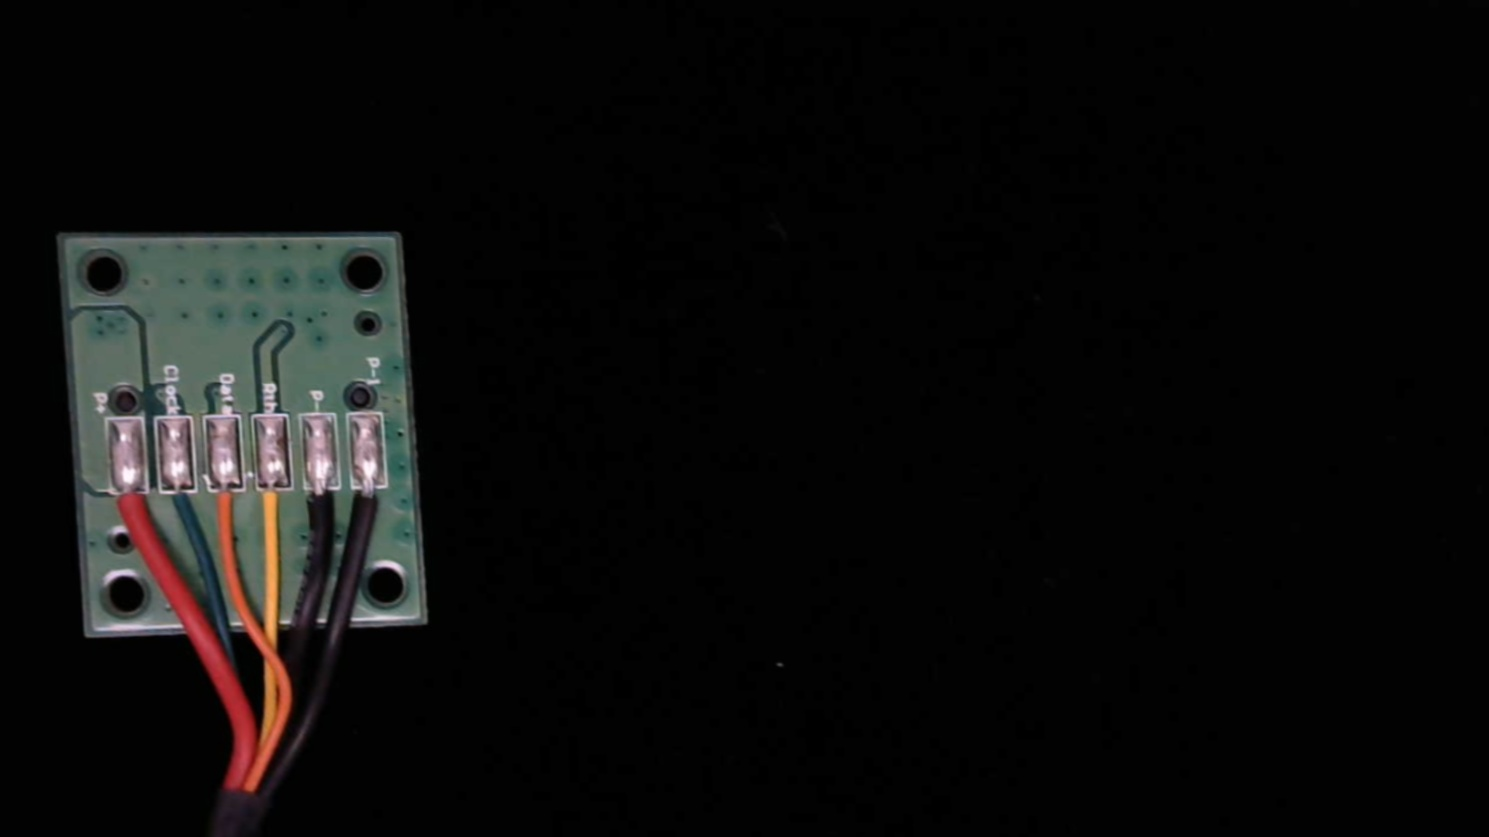Black: (301, 467, 340, 547)
Black1: (352, 467, 395, 546)
Green: (155, 470, 201, 547)
Orange: (206, 470, 249, 555)
Red: (105, 469, 151, 552)
Yellow: (250, 465, 296, 553)
